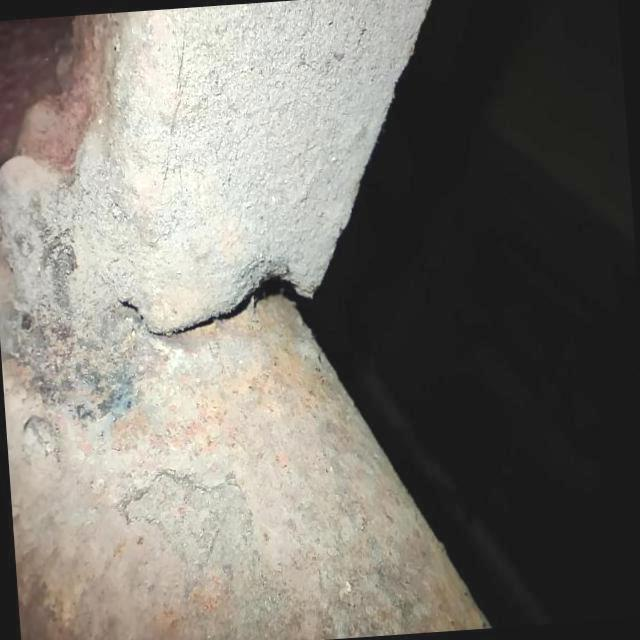defect: (111, 266, 309, 341)
